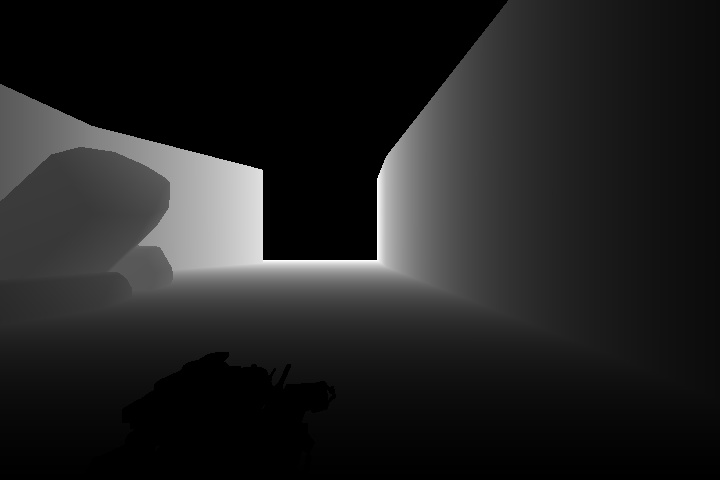green rock: (332, 122, 526, 333)
